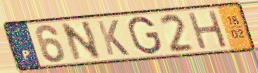2: (159, 13, 197, 54)
6: (34, 23, 66, 64)
G: (127, 15, 164, 56)
H: (186, 9, 230, 51)
K: (95, 19, 132, 58)
N: (59, 19, 104, 63)
